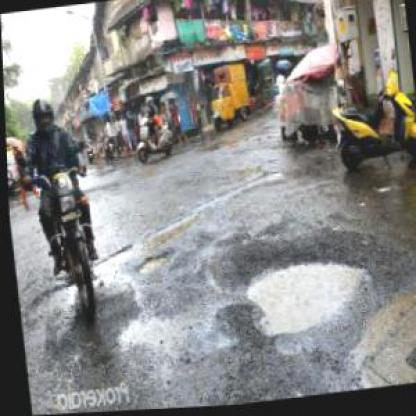pothole: (231, 229, 374, 341), (132, 248, 172, 278)
